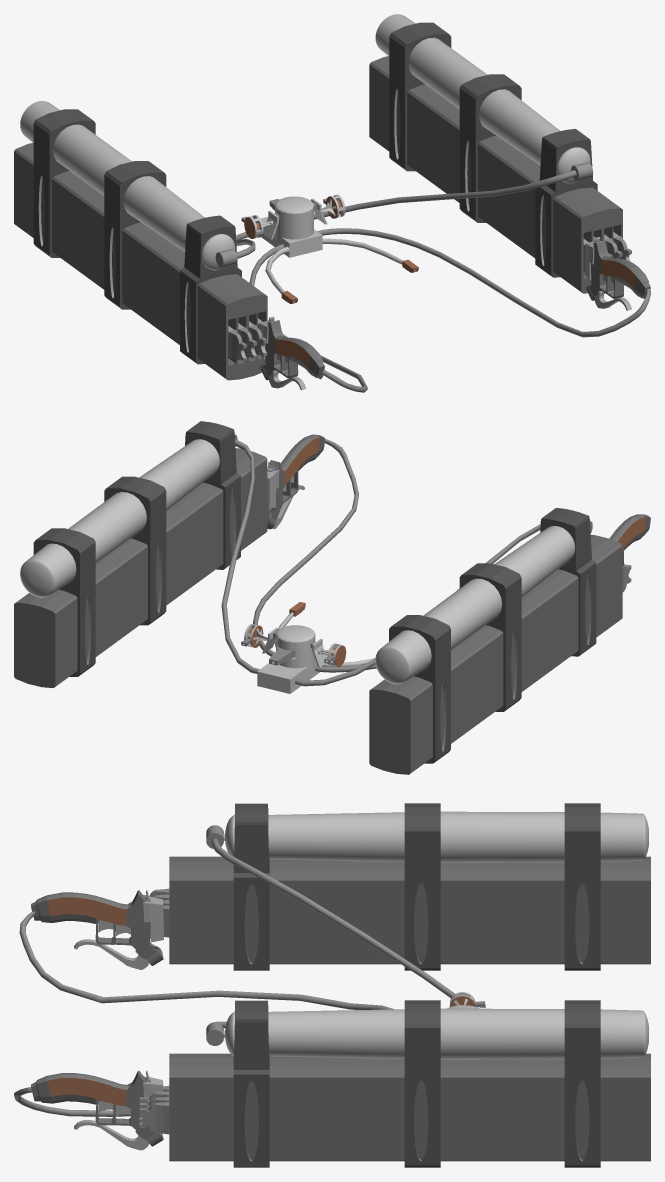
Rendered from ManeuverGear.fbx.
3 views of the same model, one above another, from view 1: azimuth 30°, elevation 25°; view 2: azimuth 150°, elevation 25°; view 3: azimuth 270°, elevation 25° (orthographic). The views are drawn at different scales.
Parts seen in each view (by area): view 1: pCube92; view 2: pCube92; view 3: pCube92.
Boxes of the visible parts, bbox=[...] form: pCube92: bbox=[14, 14, 650, 392]; pCube92: bbox=[14, 421, 650, 774]; pCube92: bbox=[14, 803, 650, 1167].
Size of the model in its own units: 17.95 by 5.7 by 21.69.
